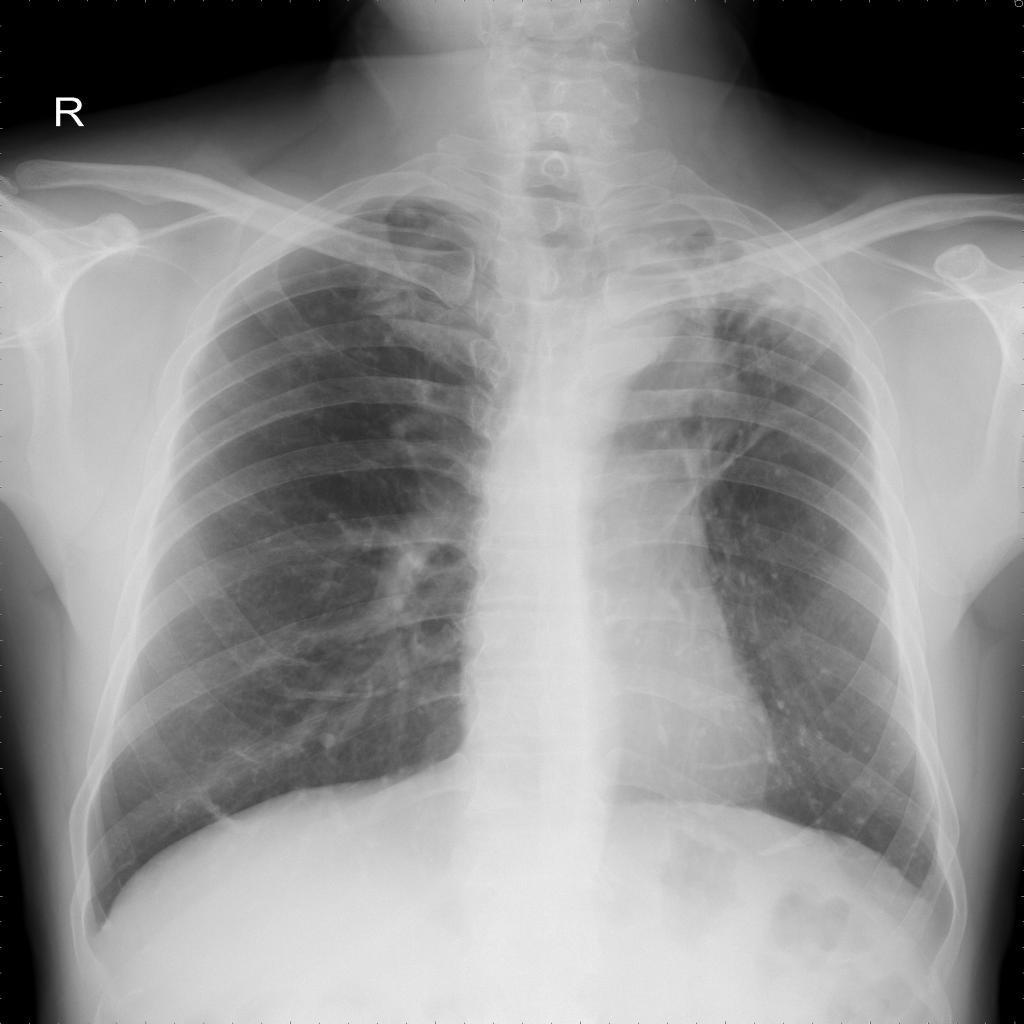Nodule: (317, 733, 339, 750)
